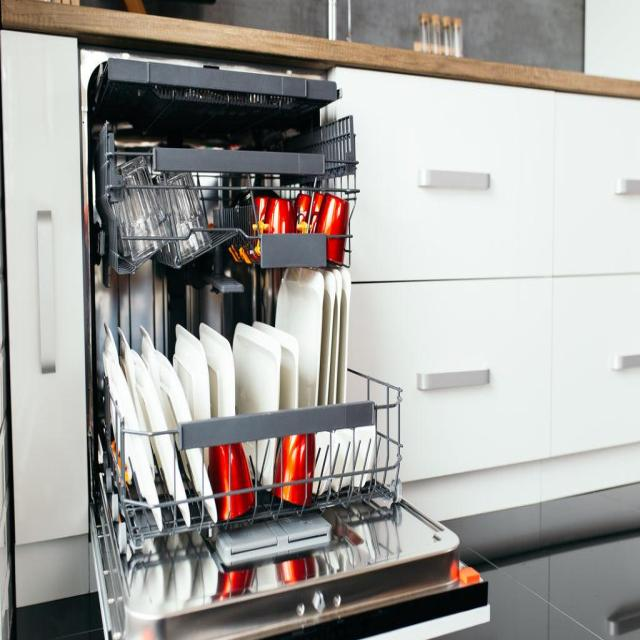dishwasher: (61, 20, 388, 640)
